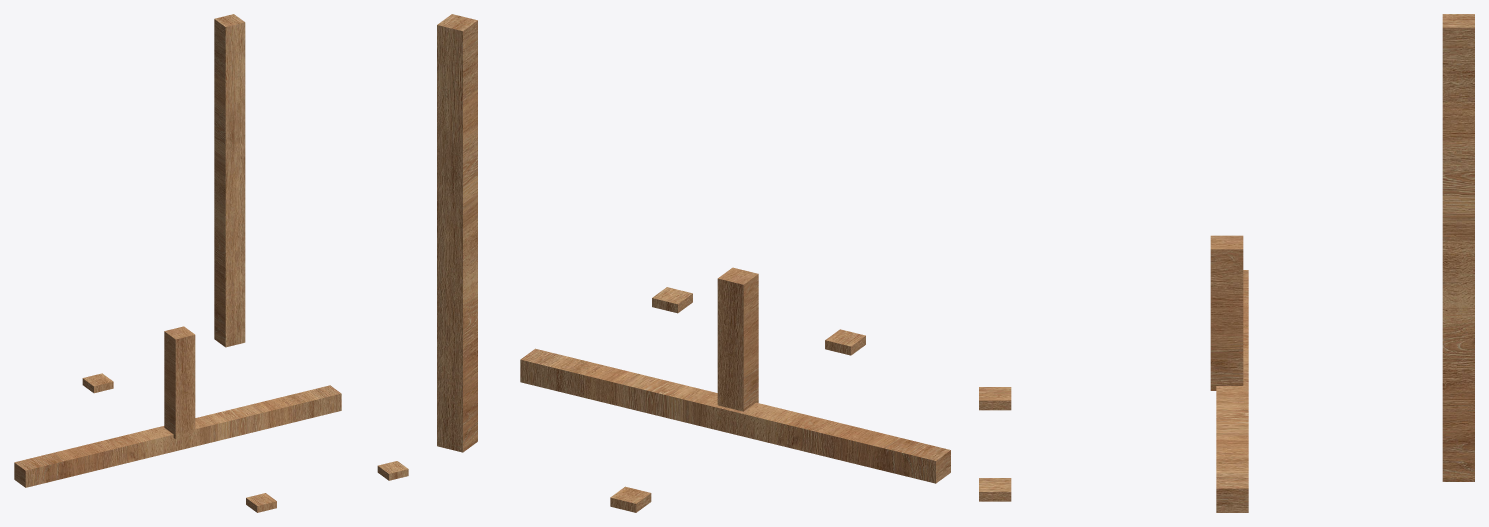
Rendered from 19665_deepcad-end2end.glb.
3 renders of one model, left to right at view 1: azimuth 30°, elevation 25°; view 2: azimuth 150°, elevation 25°; view 3: azimuth 270°, elevation 25°, orthographic. The views are drawn at different scales.
Visible parts, largest first — view 1: test_cmd_19665_pred; view 2: test_cmd_19665_pred; view 3: test_cmd_19665_pred.
Boxes of the visible parts, left/top/right/bottom form: test_cmd_19665_pred: left=14, top=14, right=408, bottom=512; test_cmd_19665_pred: left=437, top=14, right=950, bottom=512; test_cmd_19665_pred: left=979, top=14, right=1474, bottom=512.
Size of the model in its own units: 0.9897 by 1 by 0.9485.
1 material, 1 textured.
